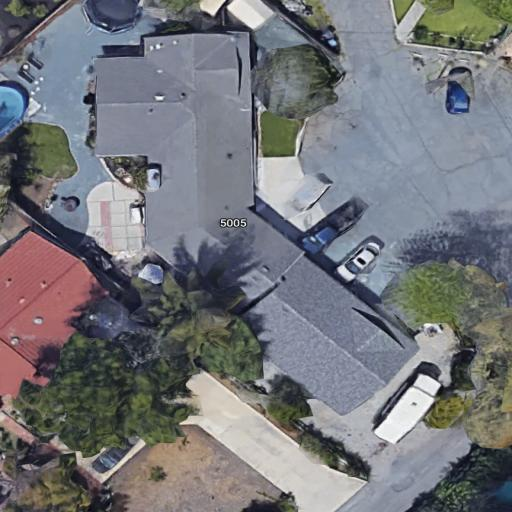Slope-Roof: (94, 31, 420, 419)
